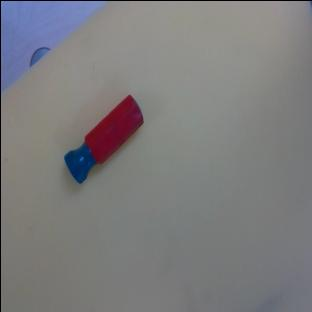part_2_good: (57, 93, 151, 183)
